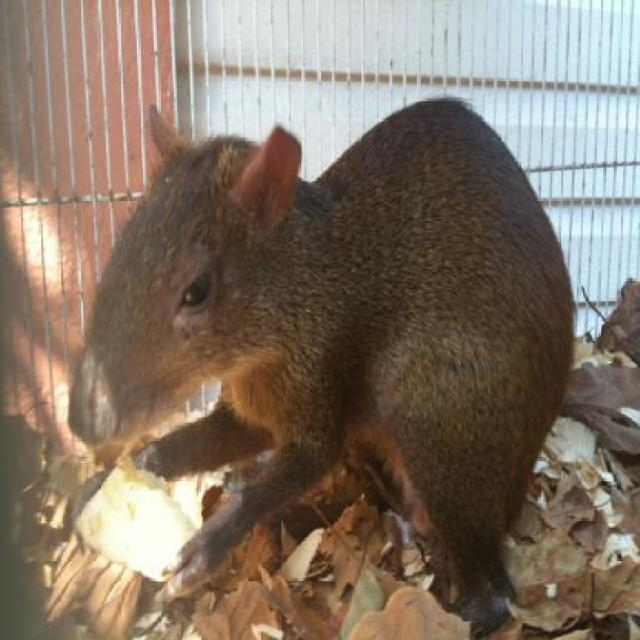Mouse: (66, 101, 582, 636)
